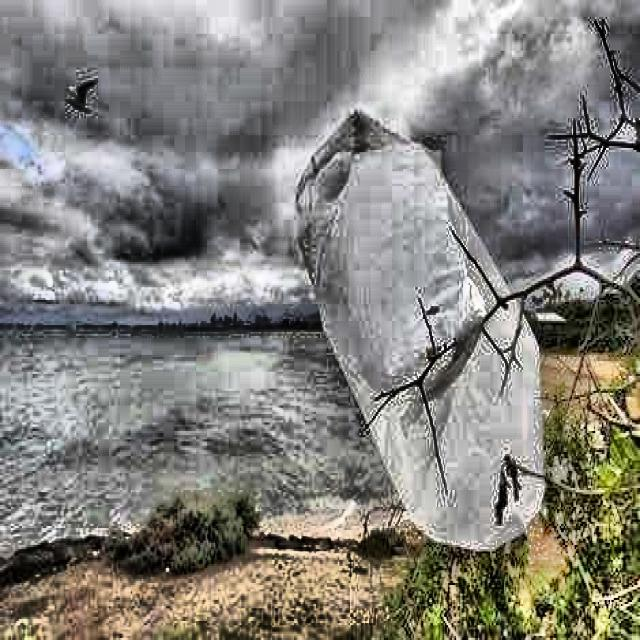Plastic: (283, 99, 567, 562)
